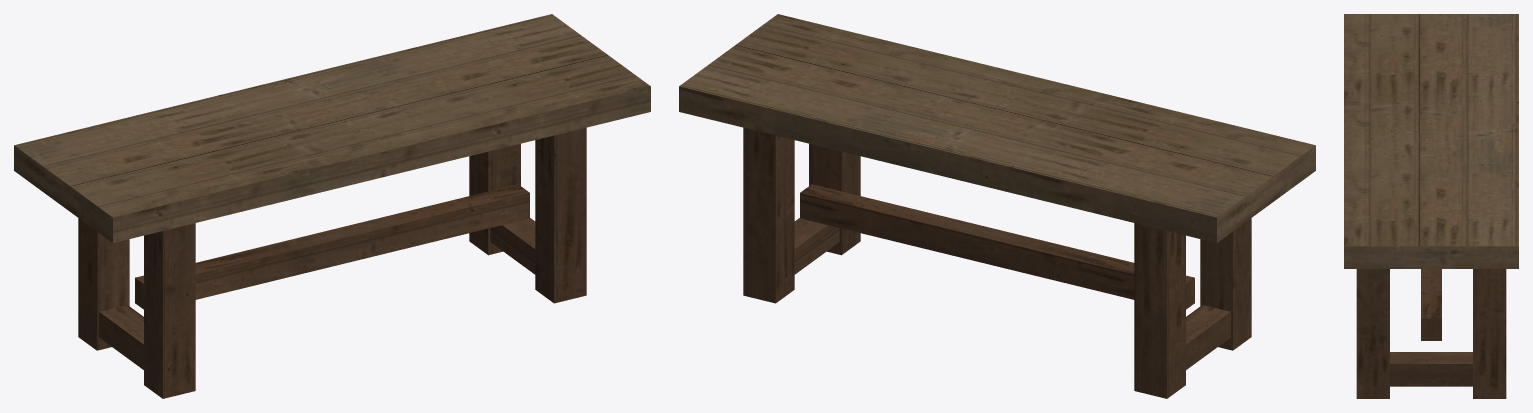
Rendered from banco_entrada.glb.
3 views of the same model, side by side, from view 1: azimuth 30°, elevation 25°; view 2: azimuth 150°, elevation 25°; view 3: azimuth 270°, elevation 25° (orthographic). The views are drawn at different scales.
Visible parts, largest first — view 1: banco_entrada; view 2: banco_entrada; view 3: banco_entrada.
Part boxes in pixels (bbox=[...]): banco_entrada: bbox=[14, 14, 650, 398]; banco_entrada: bbox=[679, 14, 1315, 398]; banco_entrada: bbox=[1344, 14, 1518, 398].
Bounding box in the file's own units: 1.32 × 0.47 × 0.42.
Materials: 2 (2 with a texture image).
